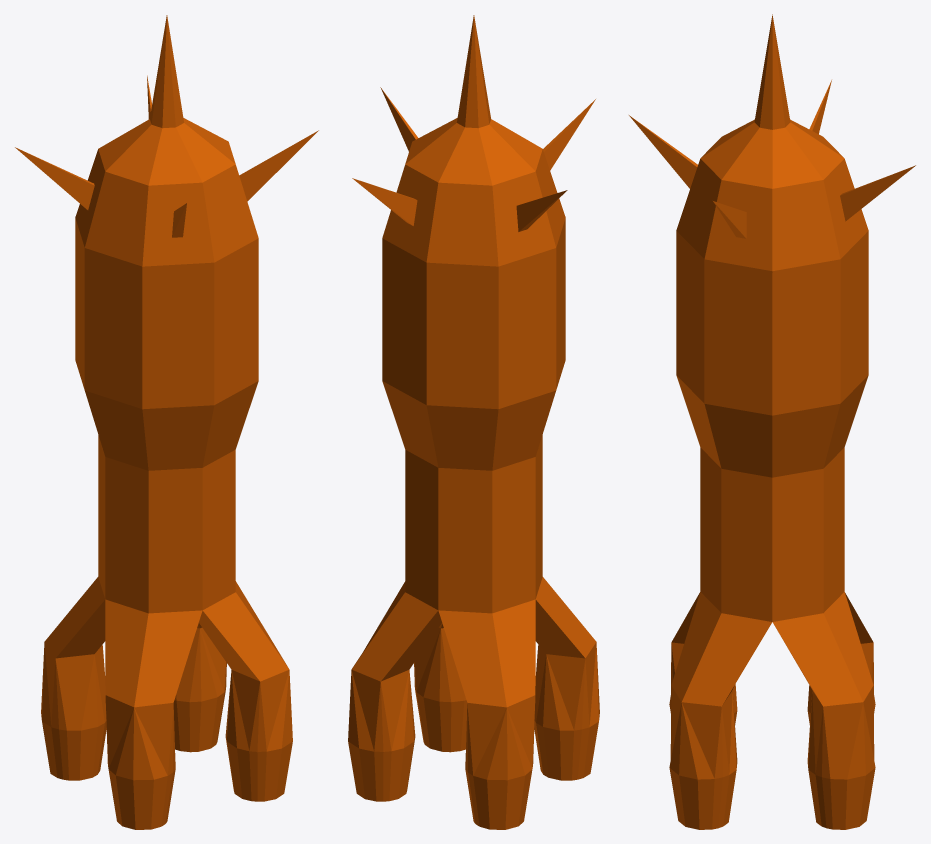
The model's file is Nuke.fbx.
3 views of the same model, side by side, from view 1: azimuth 30°, elevation 25°; view 2: azimuth 150°, elevation 25°; view 3: azimuth 270°, elevation 25° (orthographic).
Parts seen in each view (by area): view 1: Cube; view 2: Cube; view 3: Cube.
Boxes of the visible parts, bbox=[...] form: Cube: bbox=[15, 15, 318, 829]; Cube: bbox=[348, 15, 599, 829]; Cube: bbox=[629, 14, 915, 829].
Bounding box in the file's own units: 72456 × 215000 × 72456.
